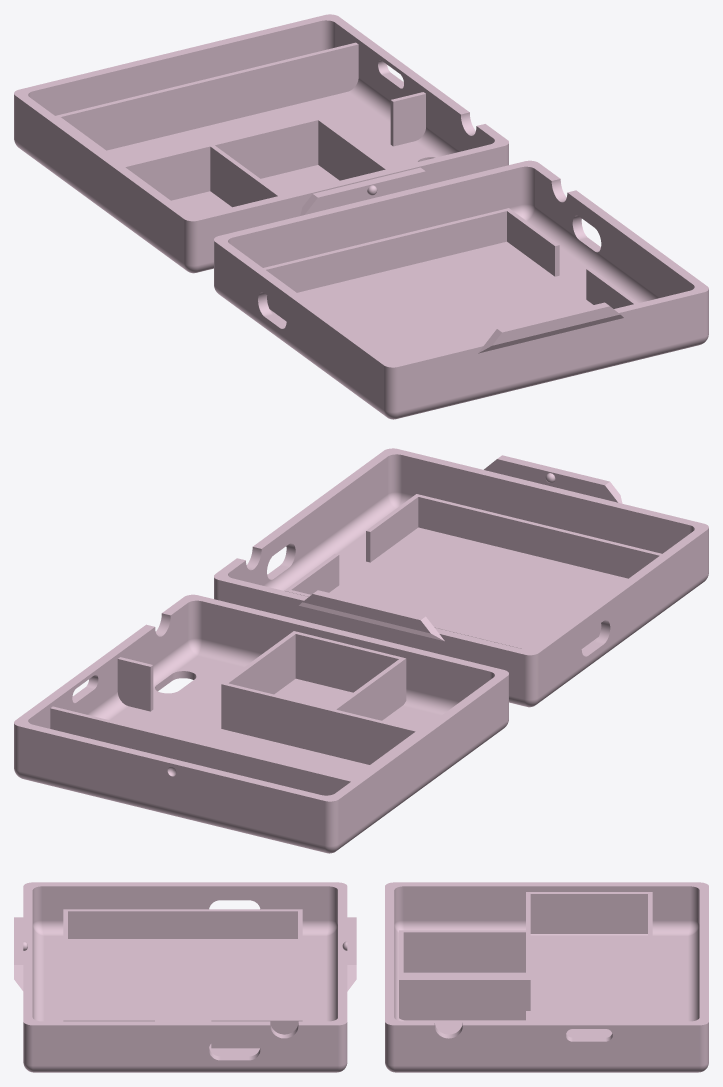
File: final-enclosure.glb
The picture shows the model from 3 angles, top to bottom: view 1: azimuth 30°, elevation 25°; view 2: azimuth 150°, elevation 25°; view 3: azimuth 270°, elevation 25°; orthographic projection. The views are drawn at different scales.
Bounding box in the file's own units: 0.072 × 0.015 × 0.148.
